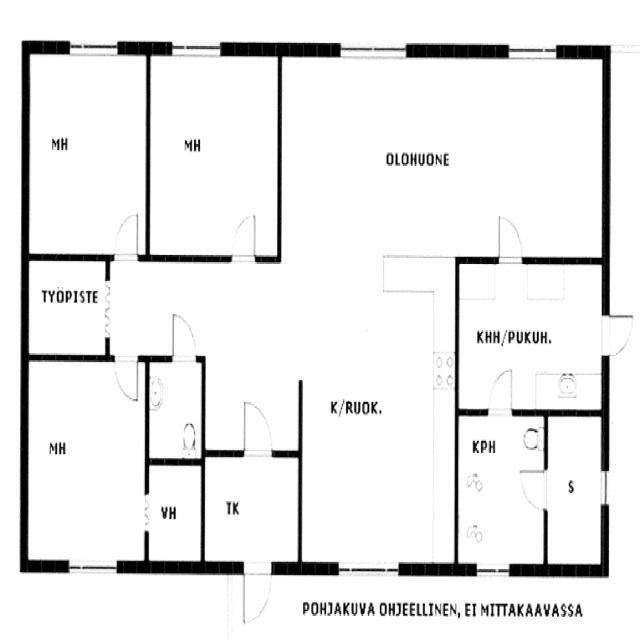door: (244, 562, 273, 626), (244, 400, 273, 457), (602, 314, 634, 355), (231, 210, 255, 262), (173, 312, 197, 363), (520, 468, 548, 511), (499, 214, 523, 264), (114, 212, 137, 262), (115, 354, 137, 402), (490, 369, 512, 416)
